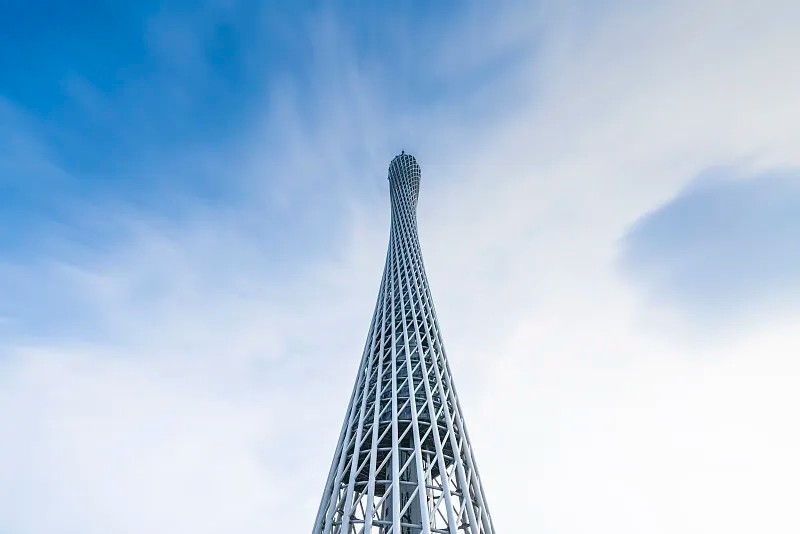Canton: (309, 150, 497, 534)
